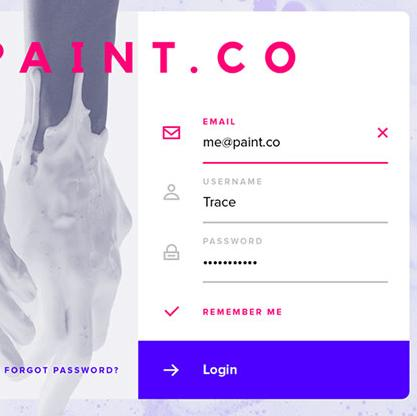button: (137, 340, 409, 400)
